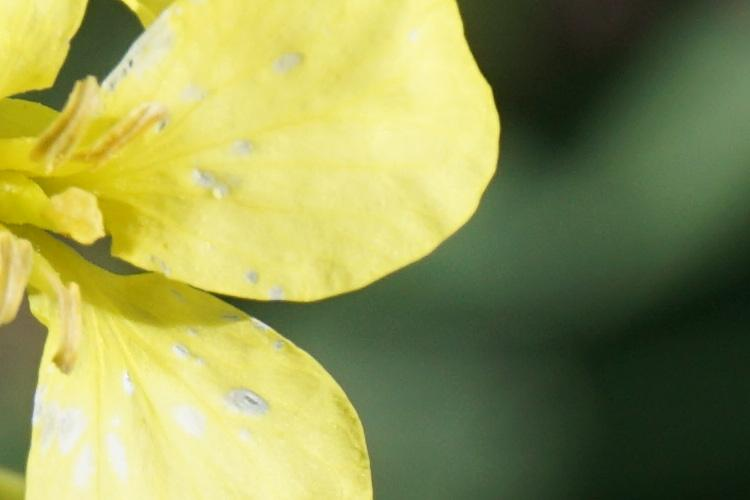yellow: (1, 1, 511, 500)
